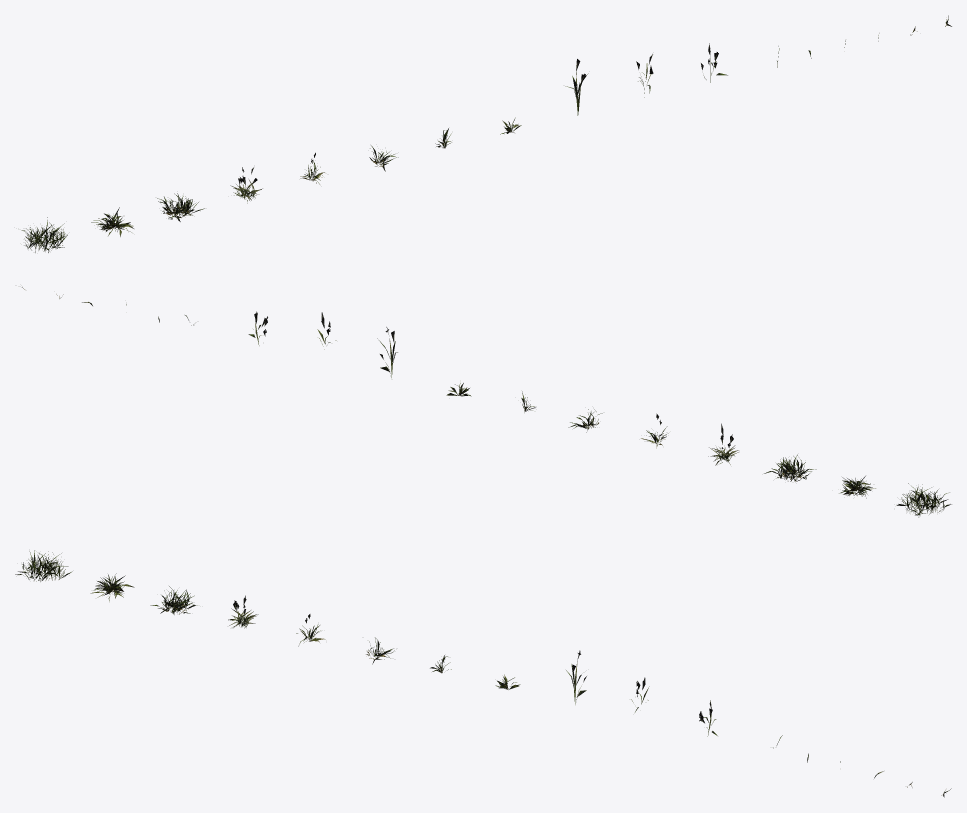
The picture shows the model from 3 angles, top to bottom: view 1: azimuth 30°, elevation 25°; view 2: azimuth 150°, elevation 25°; view 3: azimuth 330°, elevation 25°; orthographic projection.
Visible parts, largest first — view 1: grass_medium_01_large_a_LOD0, grass_medium_01_large_c_LOD0; view 2: grass_medium_01_large_a_LOD0, grass_medium_01_large_c_LOD0; view 3: grass_medium_01_large_a_LOD0.
Boxes of the visible parts, left/top/right/bottom form: grass_medium_01_large_a_LOD0: left=21, top=217, right=67, bottom=252; grass_medium_01_large_c_LOD0: left=157, top=193, right=204, bottom=221; grass_medium_01_large_a_LOD0: left=896, top=483, right=951, bottom=517; grass_medium_01_large_c_LOD0: left=764, top=454, right=816, bottom=481; grass_medium_01_large_a_LOD0: left=15, top=550, right=72, bottom=581.
Bounding box in the file's own units: 5.6 × 0.338 × 0.3178.
Materials: 1 (1 with a texture image).
